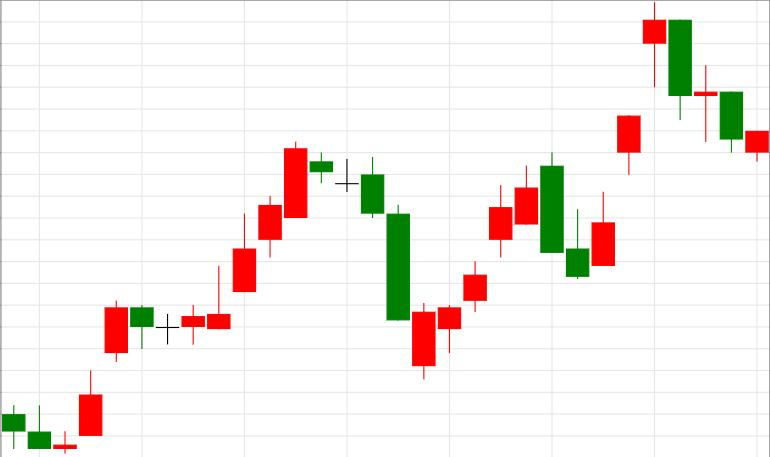bearish_engulfing_fall: (413, 153, 564, 379)
